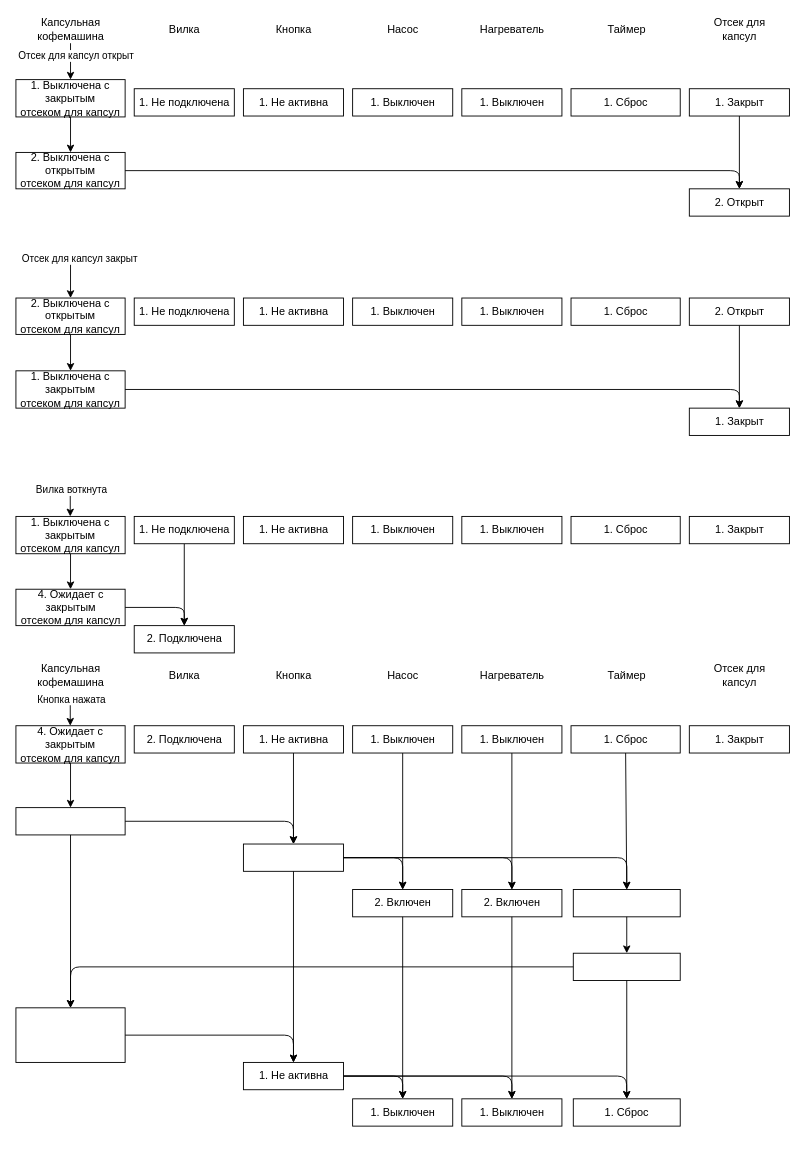
This 805x1149 diagram has some shape labels left out. Here are the shapes that lost their labels. From the top down, the box of each, then its label:
(15, 807, 125, 835): 5. Заваривает
(243, 843, 344, 871): 2. Активна
(572, 889, 680, 917): 2. Отсчёт
(572, 952, 680, 981): 3. Подача сигнала
(15, 1007, 125, 1062): 6. Кофе готов
